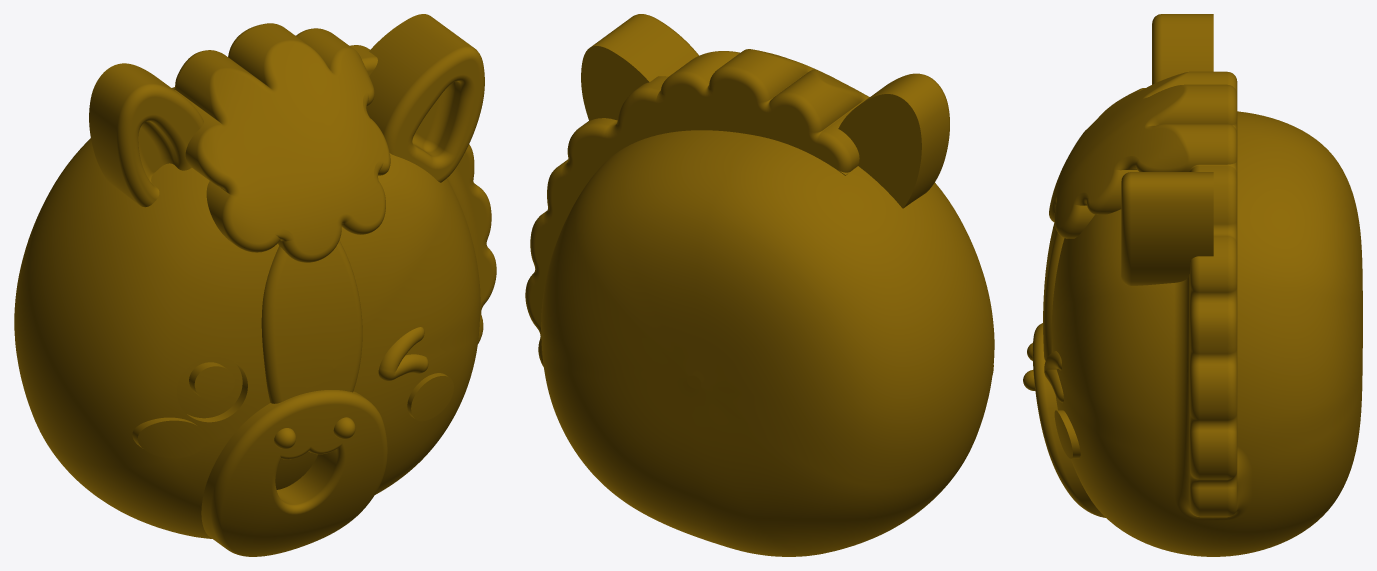
The model's file is horse-V6.glb.
3 views of the same model, side by side, from view 1: azimuth 30°, elevation 25°; view 2: azimuth 150°, elevation 25°; view 3: azimuth 270°, elevation 25° (orthographic). The views are drawn at different scales.
Parts seen in each view (by area): view 1: horse-V6; view 2: horse-V6; view 3: horse-V6.
Part boxes in pixels (left/top/right/bottom): horse-V6: left=14, top=14, right=496, bottom=556; horse-V6: left=525, top=14, right=994, bottom=556; horse-V6: left=1023, top=14, right=1362, bottom=556.
Bounding box in the file's own units: 0.0496 × 0.0512 × 0.035.
